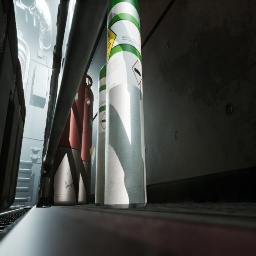0: (104, 0, 147, 209), (95, 61, 107, 206)
NitrogenTank ,: (48, 43, 87, 206), (77, 74, 94, 205)
